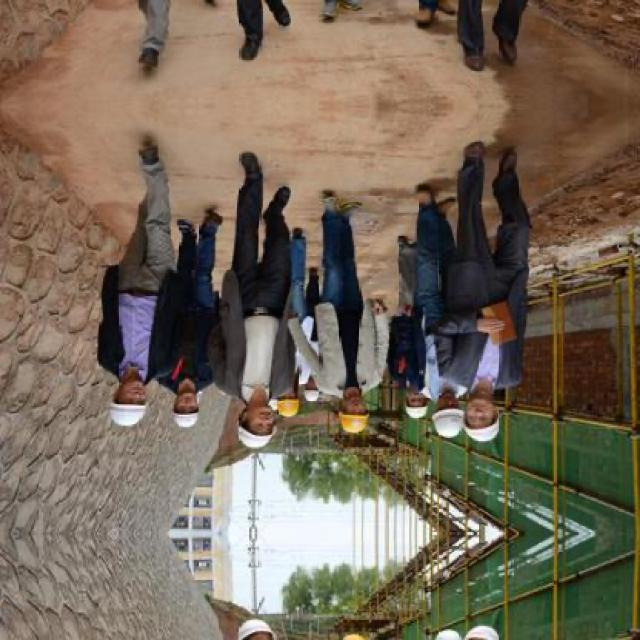con casco: (222, 378, 306, 467), (98, 366, 192, 439), (340, 388, 404, 441), (433, 378, 482, 444), (172, 375, 220, 433), (473, 372, 512, 441), (272, 388, 324, 437), (396, 384, 447, 418)
